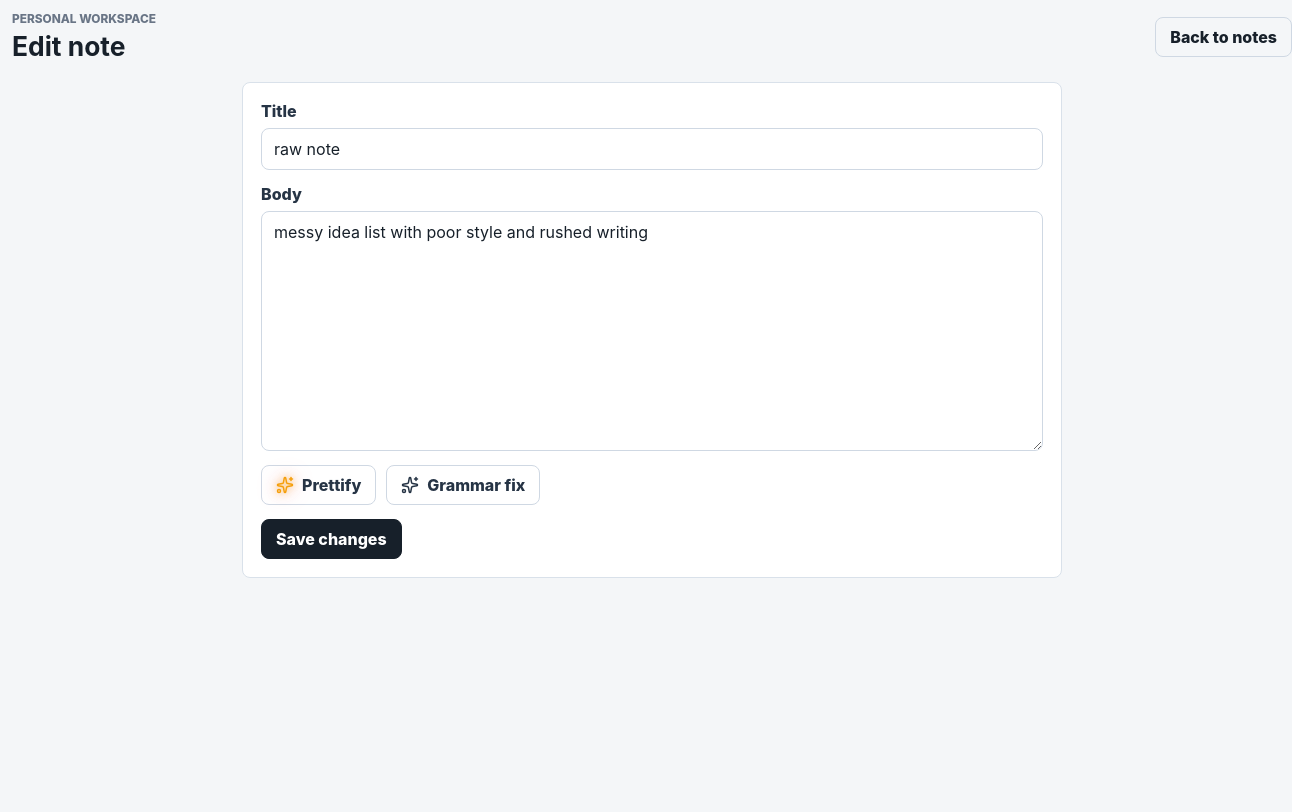
Test: NotesPage › prettifies disorganized text on the edit page
Expected: the field showing "raw note" is shown, x1=261 y1=128 x2=1043 y2=170
Click the button "Prettify" at (319, 485), box x1=261 y1=465 x2=376 y2=505
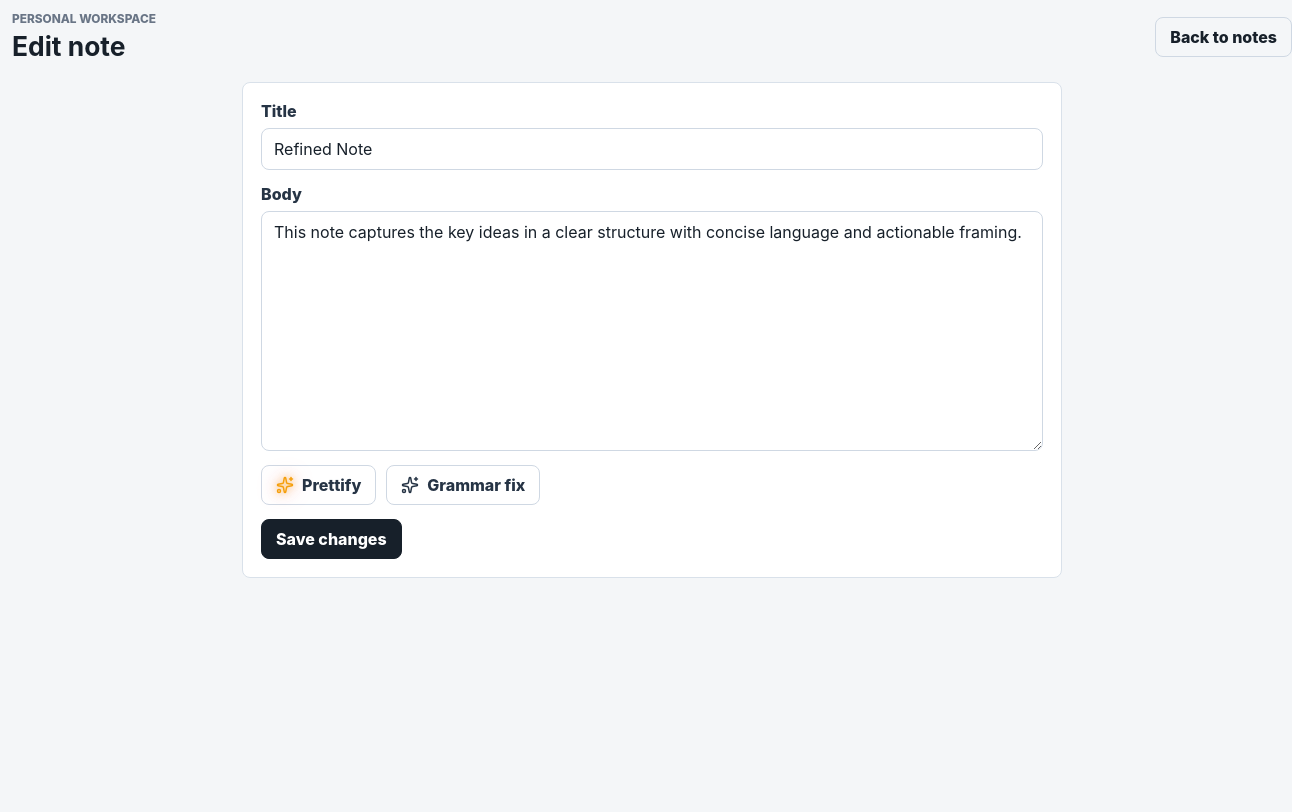
Now the field showing "Refined Note" is shown, box x1=261 y1=128 x2=1043 y2=170
Now the text box showing "clear structure with concise language" is shown, box x1=261 y1=211 x2=1043 y2=451
